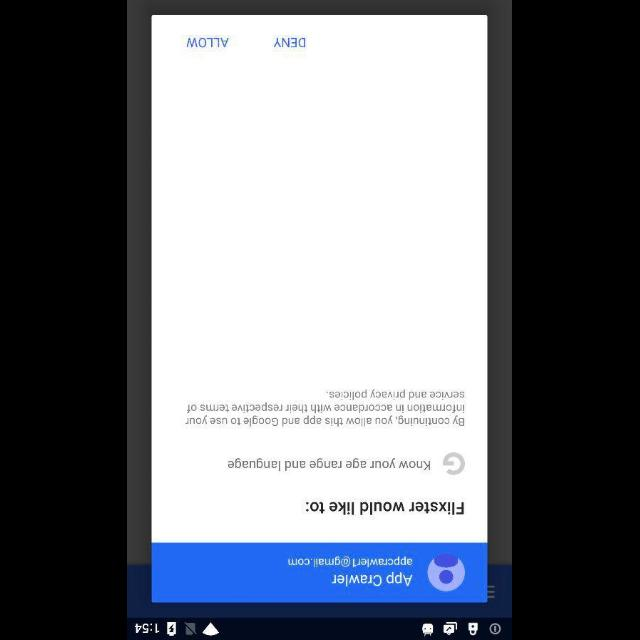icon: (428, 553, 466, 591)
panel: (152, 15, 488, 603)
text: (186, 388, 464, 426), (228, 458, 432, 470), (306, 501, 466, 515), (289, 556, 413, 568), (332, 572, 412, 586), (443, 452, 465, 474), (187, 37, 229, 47), (274, 37, 306, 47)
uppertaskbar: (128, 617, 512, 639)
